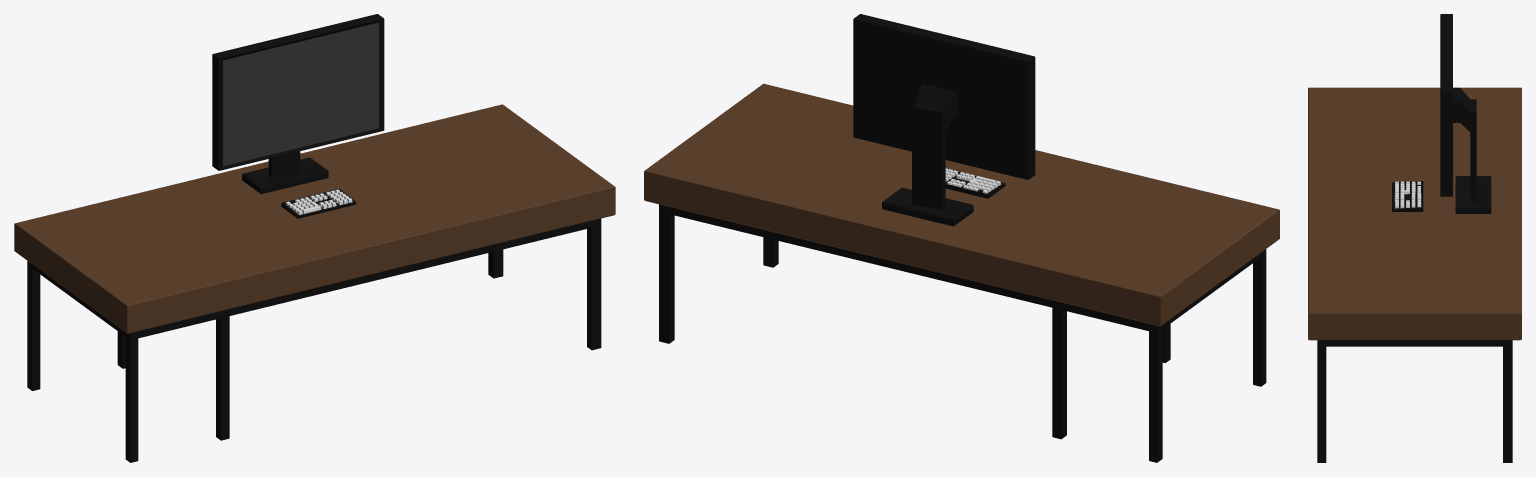
3 views of the same model, side by side, from view 1: azimuth 30°, elevation 25°; view 2: azimuth 150°, elevation 25°; view 3: azimuth 270°, elevation 25° (orthographic). The views are drawn at different scales.
Visible parts, largest first — view 1: Cube, Cube.001; view 2: Cube, Cube.001; view 3: Cube, Cube.001, Cube.002.
Boxes of the visible parts, x1,y1,x2,y2 form: Cube: [14, 104, 615, 462]; Cube.001: [212, 14, 384, 194]; Cube: [644, 83, 1279, 462]; Cube.001: [853, 14, 1035, 226]; Cube: [1308, 87, 1521, 462]; Cube.001: [1440, 14, 1491, 213]; Cube.002: [1392, 181, 1423, 211].
Size of the model in its own units: 10 by 6.25 by 4.
